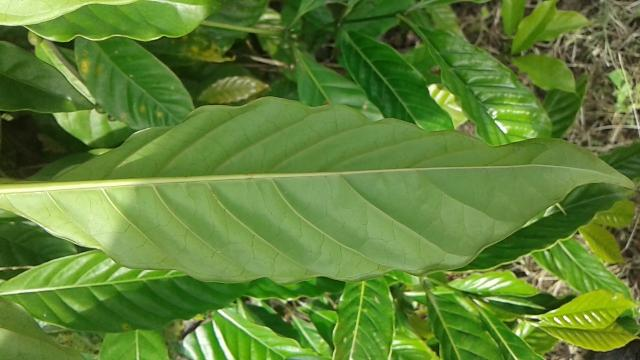healthy: (0, 94, 640, 286)
